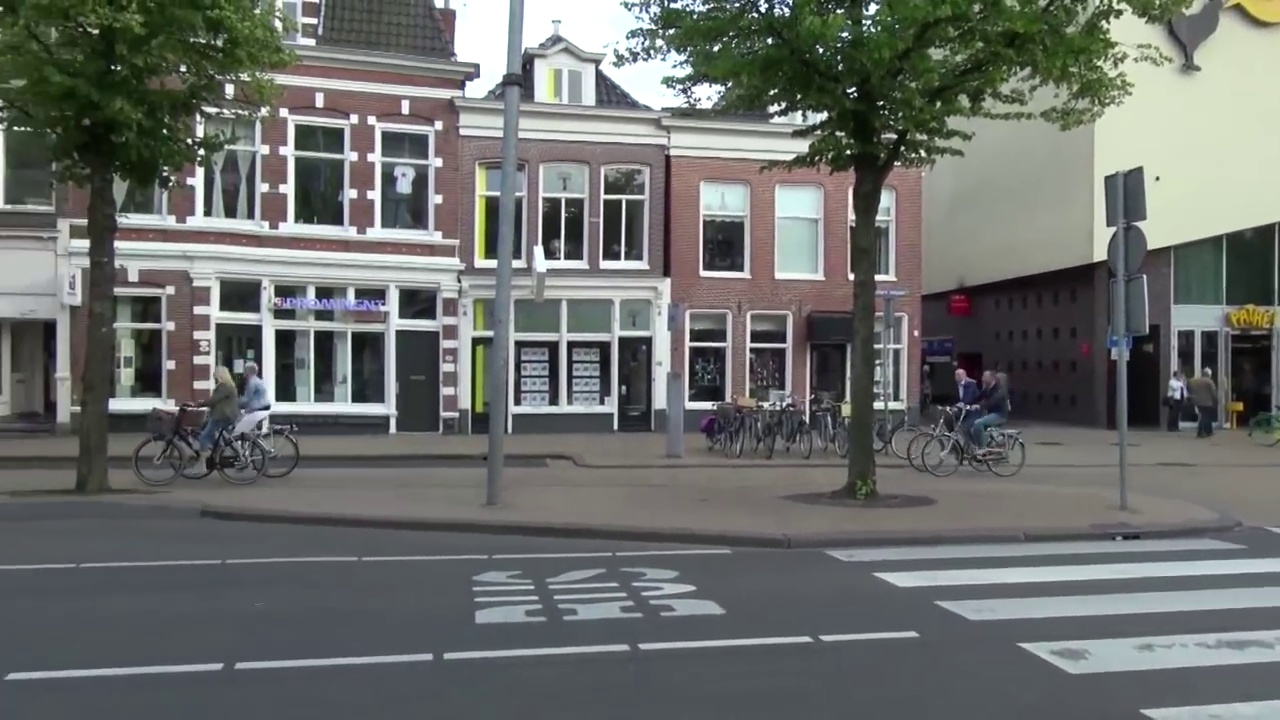cyclist_side: (139, 364, 270, 482), (933, 367, 1029, 481)
